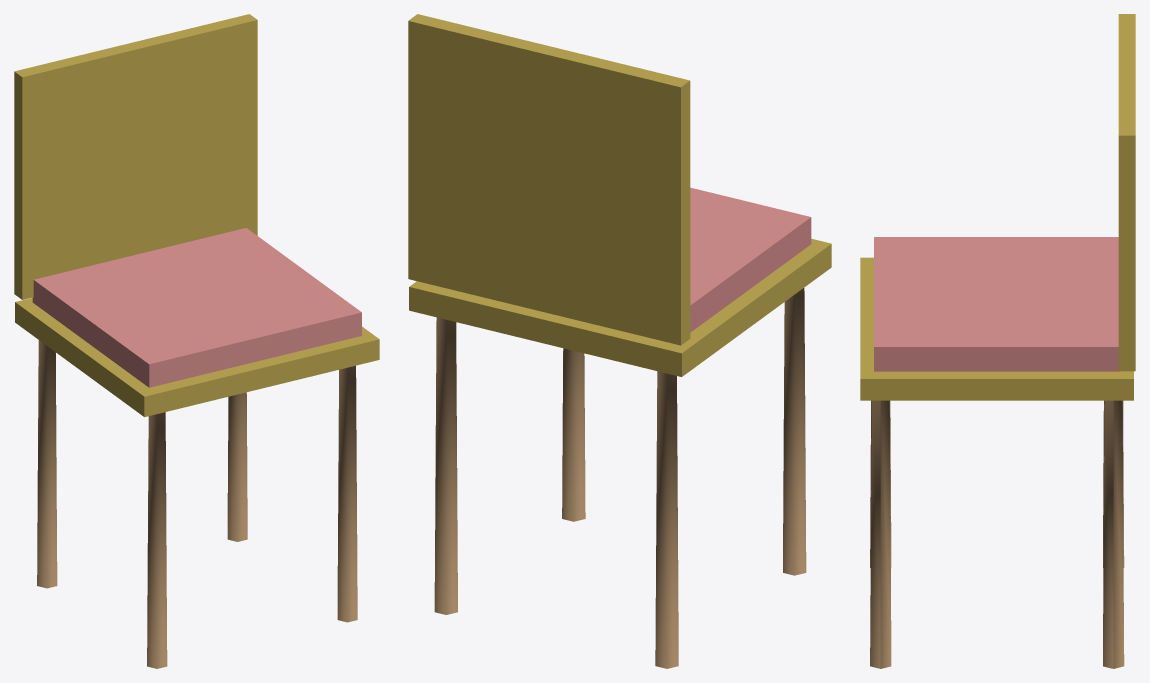
The model's file is chair.glb.
3 renders of one model, left to right at view 1: azimuth 30°, elevation 25°; view 2: azimuth 150°, elevation 25°; view 3: azimuth 270°, elevation 25°, orthographic. The views are drawn at different scales.
Visible parts, largest first — view 1: back, cushion, seat, leg4, leg3, leg1, leg2; view 2: back, seat, cushion, leg1, leg2, leg3, leg4; view 3: cushion, seat, back, leg4, leg2, leg1, leg3.
Part boxes in pixels (bbox=[...]): back: bbox=[14, 14, 257, 299]; cushion: bbox=[32, 228, 361, 387]; seat: bbox=[15, 298, 379, 417]; leg4: bbox=[337, 365, 357, 622]; leg3: bbox=[147, 412, 167, 668]; leg1: bbox=[37, 340, 57, 588]; leg2: bbox=[227, 392, 247, 541]; back: bbox=[408, 14, 690, 345]; seat: bbox=[409, 238, 831, 376]; cushion: bbox=[690, 187, 811, 332]; leg1: bbox=[655, 371, 678, 668]; leg2: bbox=[434, 317, 457, 614]; leg3: bbox=[783, 288, 806, 575]; leg4: bbox=[562, 348, 585, 521]; cushion: bbox=[874, 237, 1119, 371]; seat: bbox=[860, 257, 1133, 400]; back: bbox=[1118, 14, 1135, 371]; leg4: bbox=[870, 400, 891, 668]; leg2: bbox=[1103, 400, 1124, 668]; leg1: bbox=[1103, 400, 1124, 567]; leg3: bbox=[870, 400, 891, 567].
Size of the model in its own units: 0.42 by 0.87 by 0.4025.
